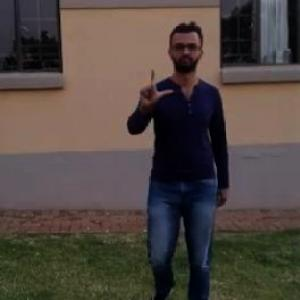land_hand: (136, 66, 175, 110)
